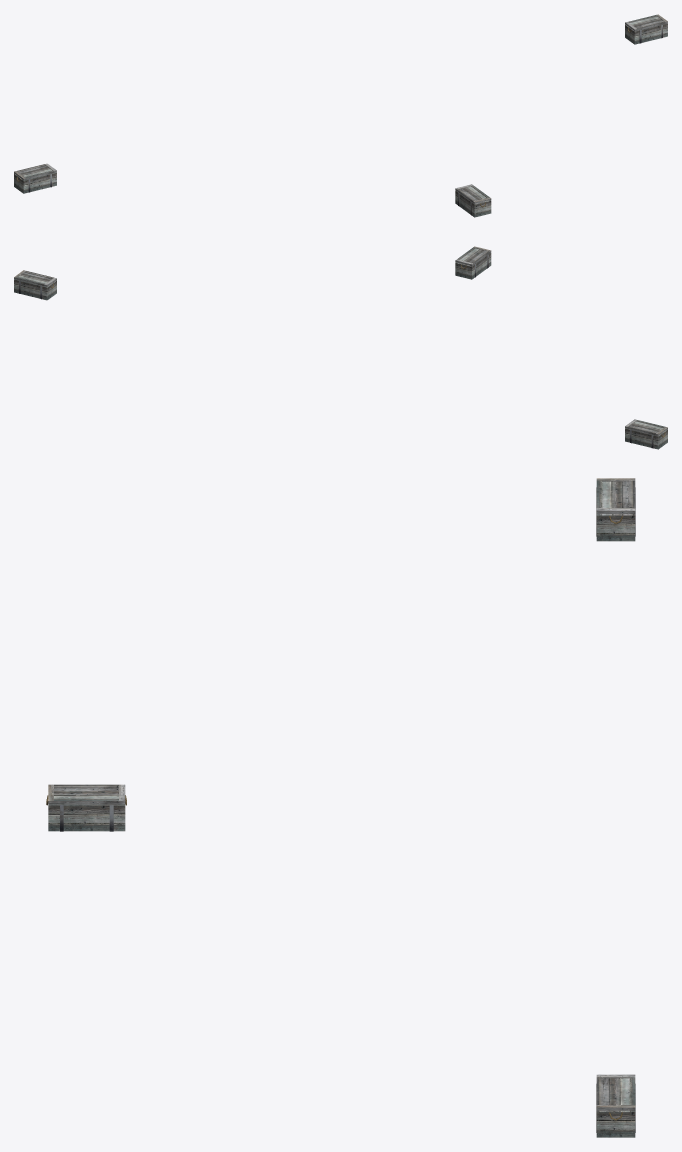
File: coast-1-2.glb
3 renders of one model, top to bottom at view 1: azimuth 30°, elevation 25°; view 2: azimuth 150°, elevation 25°; view 3: azimuth 270°, elevation 25°, orthographic. The views are drawn at different scales.
Visible parts, largest first — view 1: coast-1-2; view 2: coast-1-2; view 3: coast-1-2.
Boxes of the visible parts, <box> form: coast-1-2: <box>14,14,667,217</box>; coast-1-2: <box>14,246,667,449</box>; coast-1-2: <box>46,478,635,1137</box>.
Bounding box in the file's own units: 42.29 × 0.958 × 16.7.
9 materials, 9 textured.
